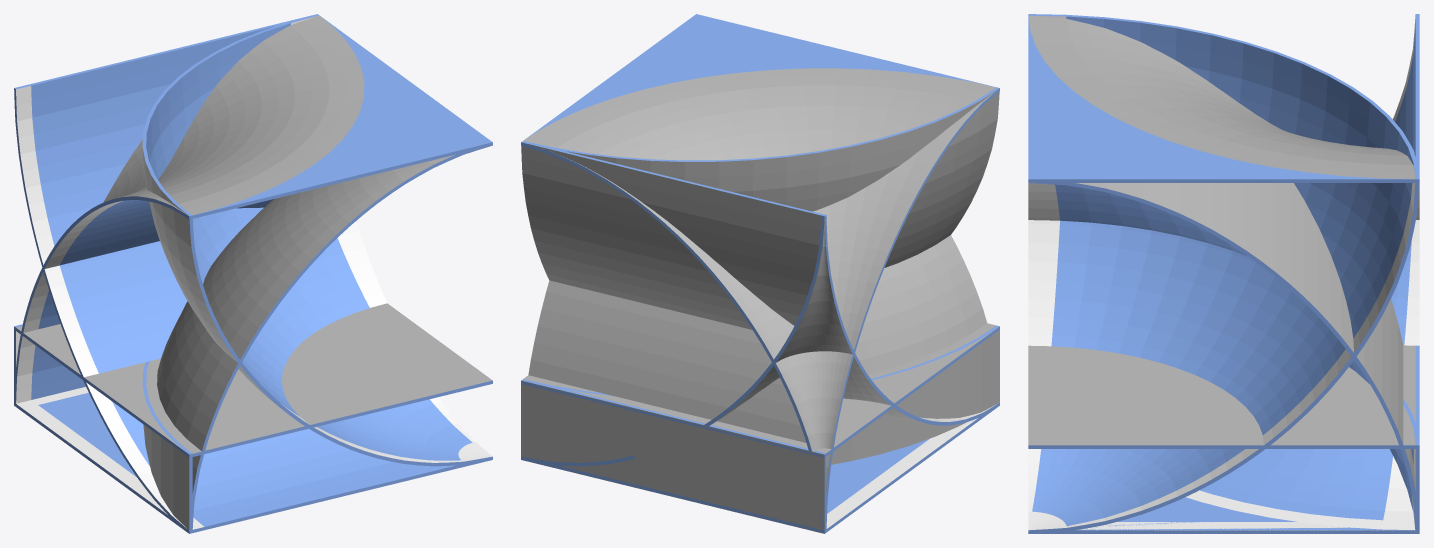
The model's file is wall_track.glb.
3 renders of one model, left to right at view 1: azimuth 30°, elevation 25°; view 2: azimuth 150°, elevation 25°; view 3: azimuth 270°, elevation 25°, orthographic. The views are drawn at different scales.
Parts seen in each view (by area): view 1: WallTrackBottom, WallTrackTopInnerCorner, WallTrackBottomCorner, WallTrackCeiling, WallTrackTopCorner, WallTrackTop, WallTrackFloor, WallTrackMiddleCorner, WallTrackBottomInnerCorner; view 2: WallTrackTopInnerCorner, WallTrackBottom, WallTrackTop, WallTrackMiddle, WallTrackBottomCorner, WallTrackTopCorner, WallTrackMiddleCorner, WallTrackBottomInnerCorner, WallTrackCeiling, WallTrackFloor; view 3: WallTrackBottomCorner, WallTrackTopInnerCorner, WallTrackCeiling, WallTrackBottomInnerCorner, WallTrackTop, WallTrackTopCorner, WallTrackBottom, WallTrackFloor, WallTrackMiddleCorner, WallTrackMiddle.
Boxes of the visible parts, box(x1,y1,x2,y2) form: WallTrackBottom: box(14, 14, 454, 529); WallTrackTopInnerCorner: box(14, 15, 492, 405); WallTrackBottomCorner: box(142, 15, 492, 466); WallTrackCeiling: box(16, 303, 492, 457); WallTrackTopCorner: box(157, 146, 489, 527); WallTrackTop: box(16, 142, 492, 403); WallTrackFloor: box(16, 387, 492, 533); WallTrackMiddleCorner: box(142, 361, 192, 533); WallTrackBottomInnerCorner: box(14, 89, 492, 529); WallTrackTopInnerCorner: box(521, 14, 999, 531); WallTrackBottom: box(521, 141, 996, 421); WallTrackTop: box(528, 89, 998, 442); WallTrackMiddle: box(521, 379, 826, 533); WallTrackBottomCorner: box(528, 87, 999, 267); WallTrackTopCorner: box(855, 235, 986, 374); WallTrackMiddleCorner: box(521, 325, 999, 464); WallTrackBottomInnerCorner: box(521, 215, 996, 466); WallTrackCeiling: box(521, 323, 999, 457); WallTrackFloor: box(521, 402, 999, 533); WallTrackBottomCorner: box(1028, 14, 1415, 530); WallTrackTopInnerCorner: box(1028, 15, 1419, 219); WallTrackCeiling: box(1028, 345, 1415, 448); WallTrackBottomInnerCorner: box(1076, 220, 1419, 530); WallTrackTop: box(1028, 179, 1415, 489); WallTrackTopCorner: box(1028, 183, 1419, 533); WallTrackBottom: box(1028, 14, 1419, 533); WallTrackFloor: box(1031, 506, 1415, 533); WallTrackMiddleCorner: box(1403, 399, 1419, 531); WallTrackMiddle: box(1415, 345, 1419, 445).
Size of the model in its own units: 20 by 20 by 20.
